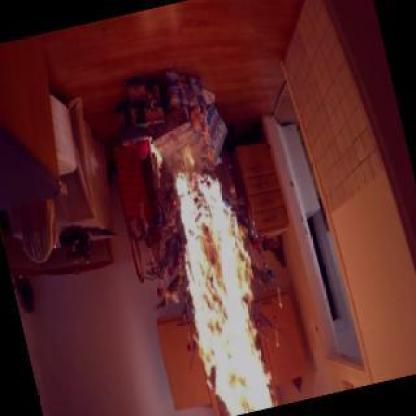Fire: (157, 160, 281, 415)
